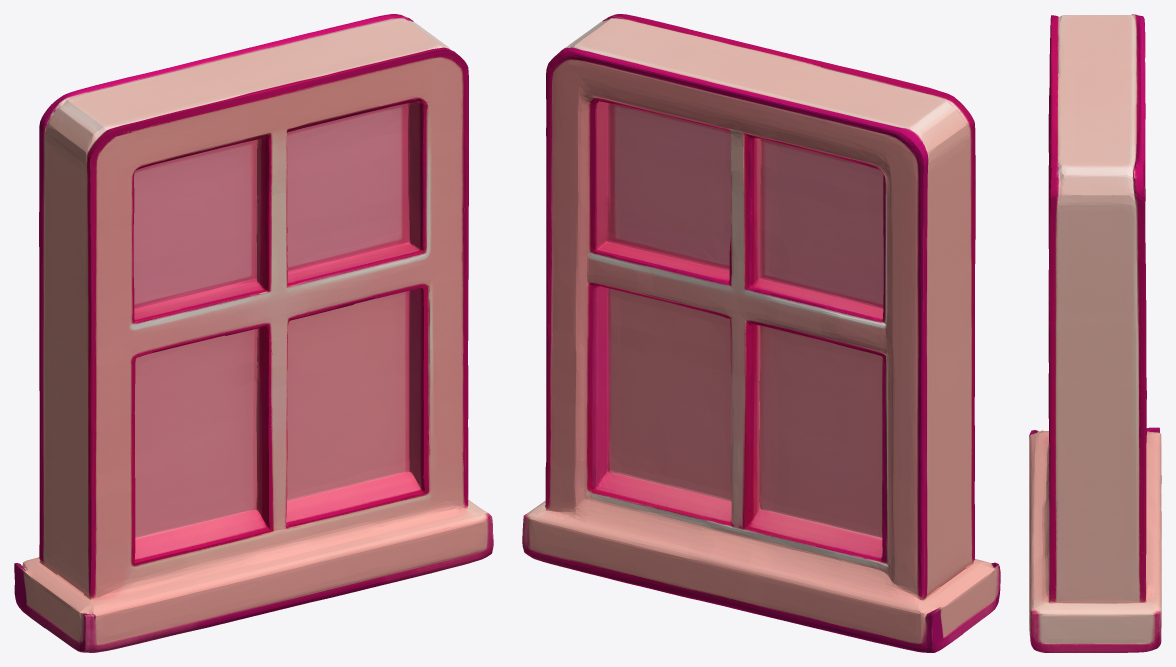
3 renders of one model, left to right at view 1: azimuth 30°, elevation 25°; view 2: azimuth 150°, elevation 25°; view 3: azimuth 270°, elevation 25°, orthographic. The views are drawn at different scales.
Visible parts, largest first — view 1: world; view 2: world; view 3: world.
Boxes of the visible parts, box(x1,y1,x2,y2) form: world: box(14, 14, 493, 652); world: box(522, 14, 1000, 652); world: box(1029, 14, 1161, 652).
Bounding box in the file's own units: 83.48 × 99.98 × 25.26.
1 material, 1 textured.
